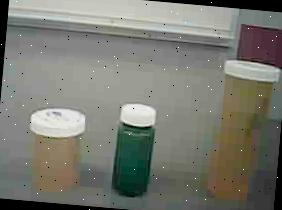Bottle A: (202, 49, 282, 209)
Bottle B: (20, 102, 95, 198)
Bottle C: (109, 99, 160, 203)
